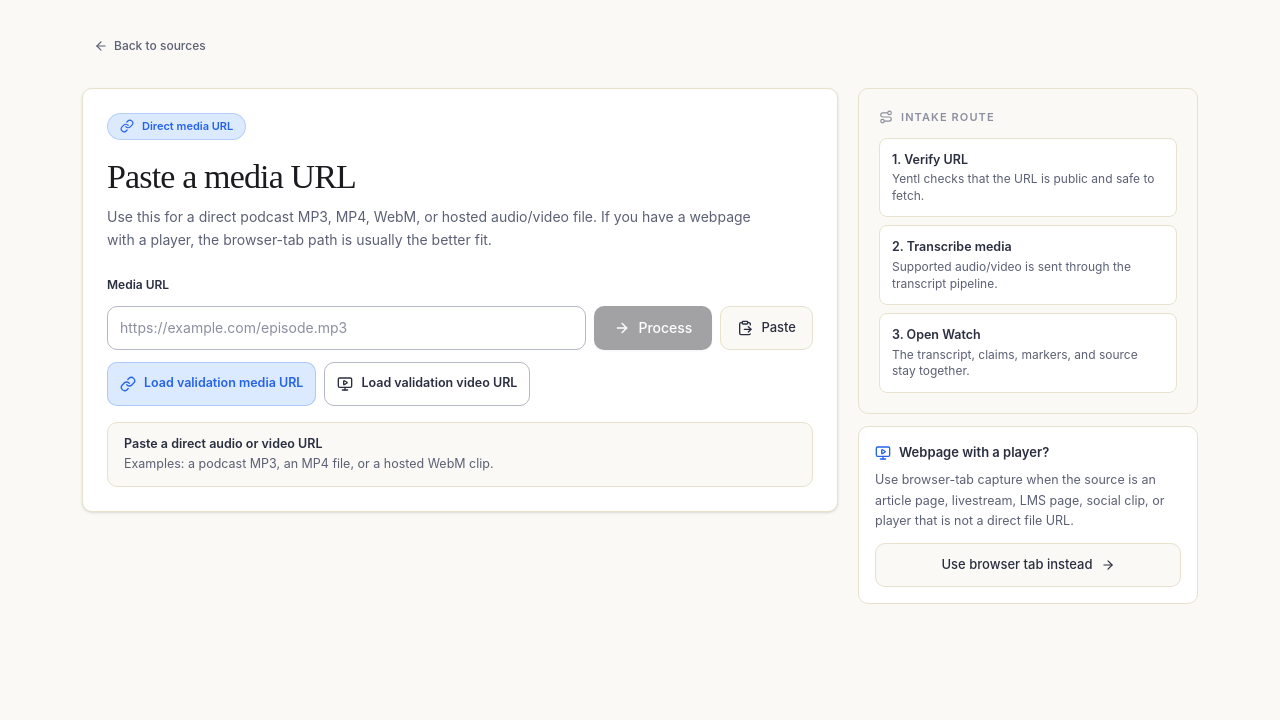
Scenario: MediaUrlIngestPane — Process button disabled state › shows a clipboard error when copied text has no URL
Click the button with aria-label "Paste media URL from clipboard". click: coordinates (767, 328)
box: [720,306,813,350]
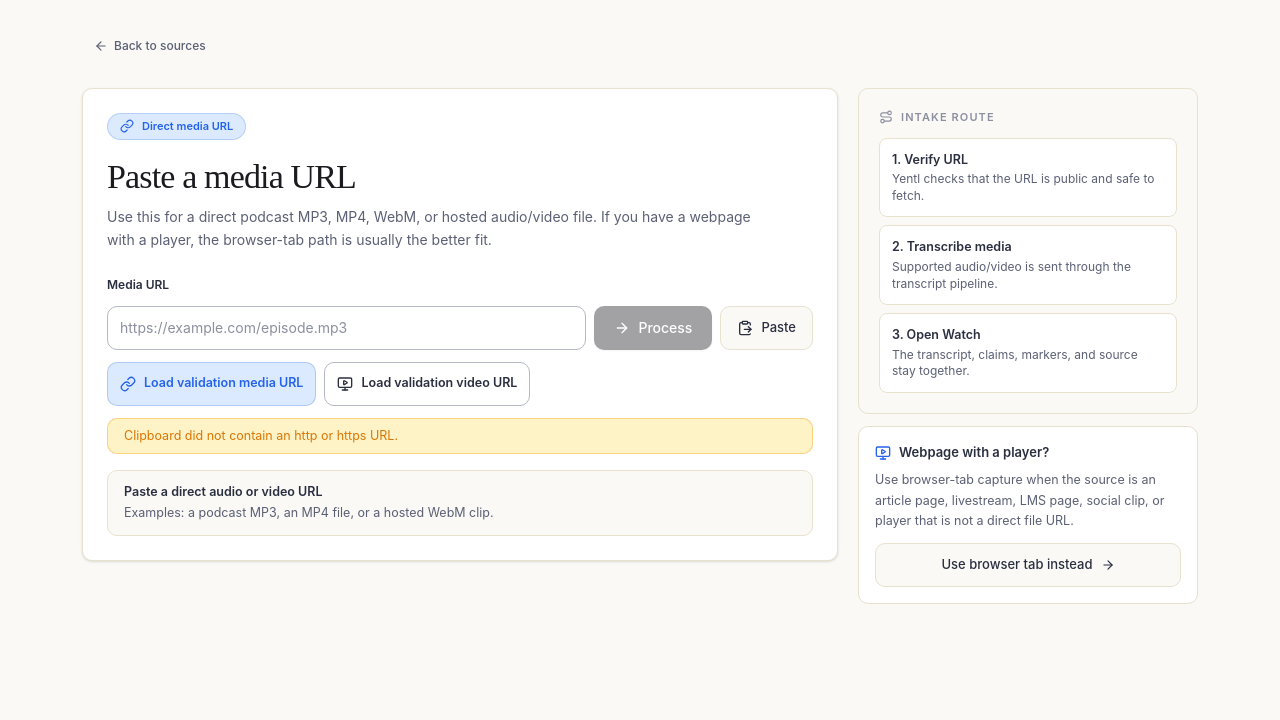
Check: the text "Clipboard did not contain an http or https URL." is shown, box [107,418,813,454]
